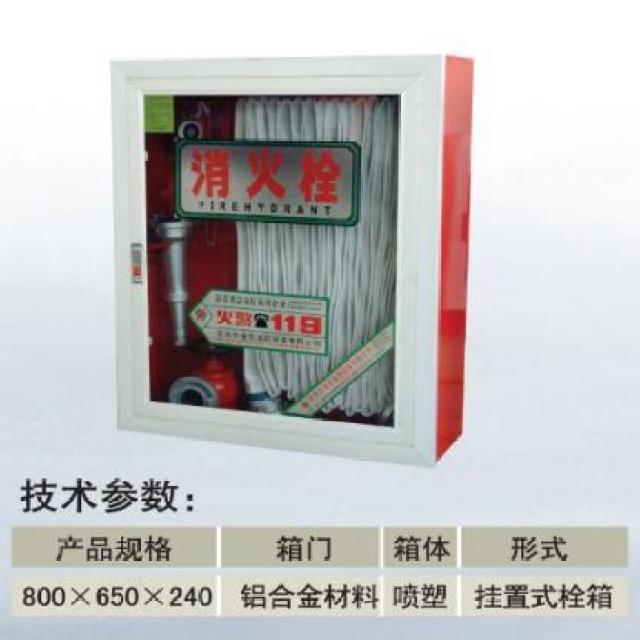firehydrant: (108, 48, 479, 472)
